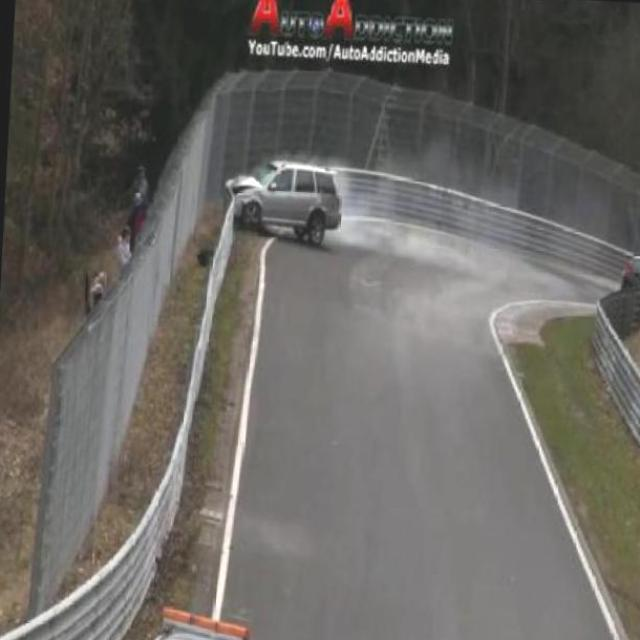accident: (220, 152, 347, 250)
